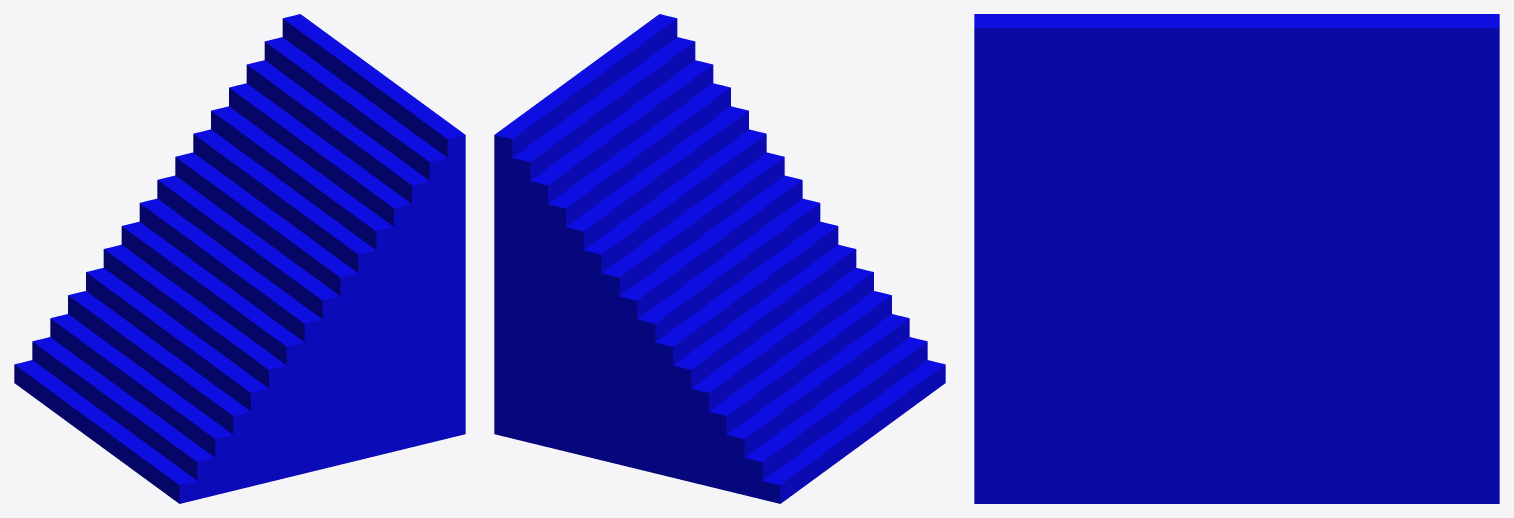
Rendered from fform_3.glb.
3 renders of one model, left to right at view 1: azimuth 30°, elevation 25°; view 2: azimuth 150°, elevation 25°; view 3: azimuth 270°, elevation 25°, orthographic. The views are drawn at different scales.
Visible parts, largest first — view 1: FFORM_0; view 2: FFORM_0; view 3: FFORM_0.
Boxes of the visible parts, box(x1,y1,x2,y2) form: FFORM_0: box(14, 14, 465, 503); FFORM_0: box(494, 14, 945, 503); FFORM_0: box(974, 14, 1499, 503).
Bounding box in the file's own units: 4 × 4 × 4.
